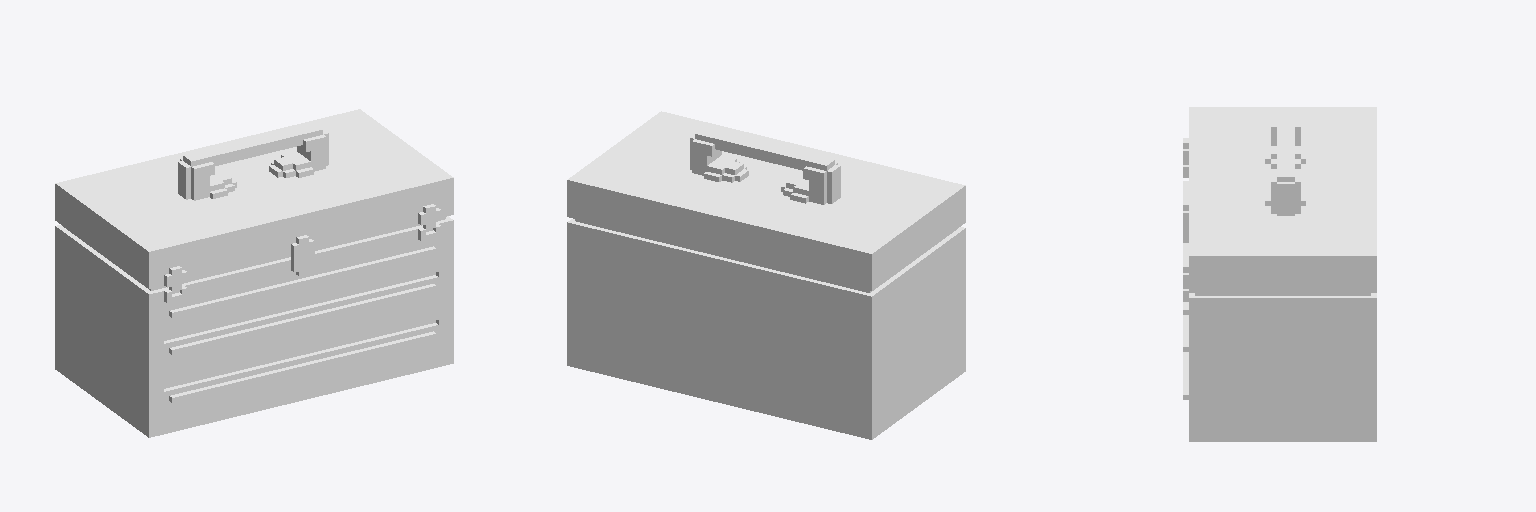
File: Toolbox1.obj
3 renders of one model, left to right at view 1: azimuth 30°, elevation 25°; view 2: azimuth 150°, elevation 25°; view 3: azimuth 270°, elevation 25°, orthographic.
Visible parts, largest first — view 1: object 1; view 2: object 1; view 3: object 1.
Part boxes in pixels (x1,y1,x2,y2): object 1: (55, 109, 453, 437); object 1: (567, 111, 965, 439); object 1: (1183, 107, 1376, 441).
Bounding box in the file's own units: 6 × 4.2 × 3.3.